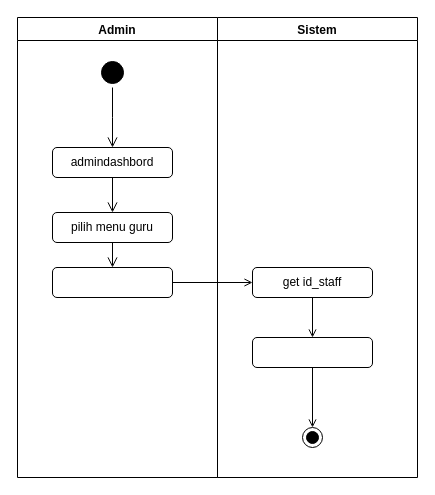
Image size: 435x495. Some labels were removed from this diagram. The shapes that lost their labels are listed below. From the top down, each one's centre as x and y in pixels, then its label:
At (112,282): "Hapus Guru".
At (312,352): "Berhasil hapus guru".
